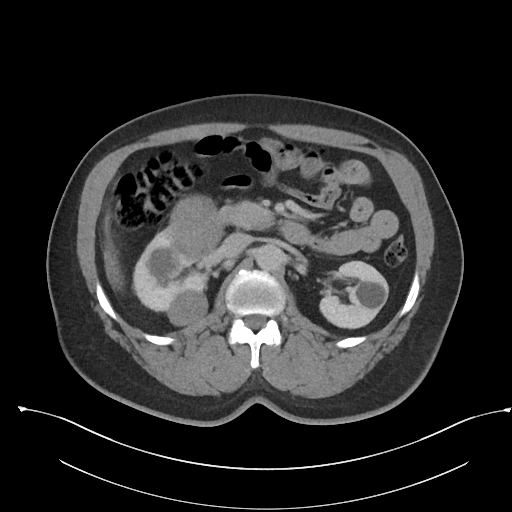Lesion: (352, 274, 387, 311)
